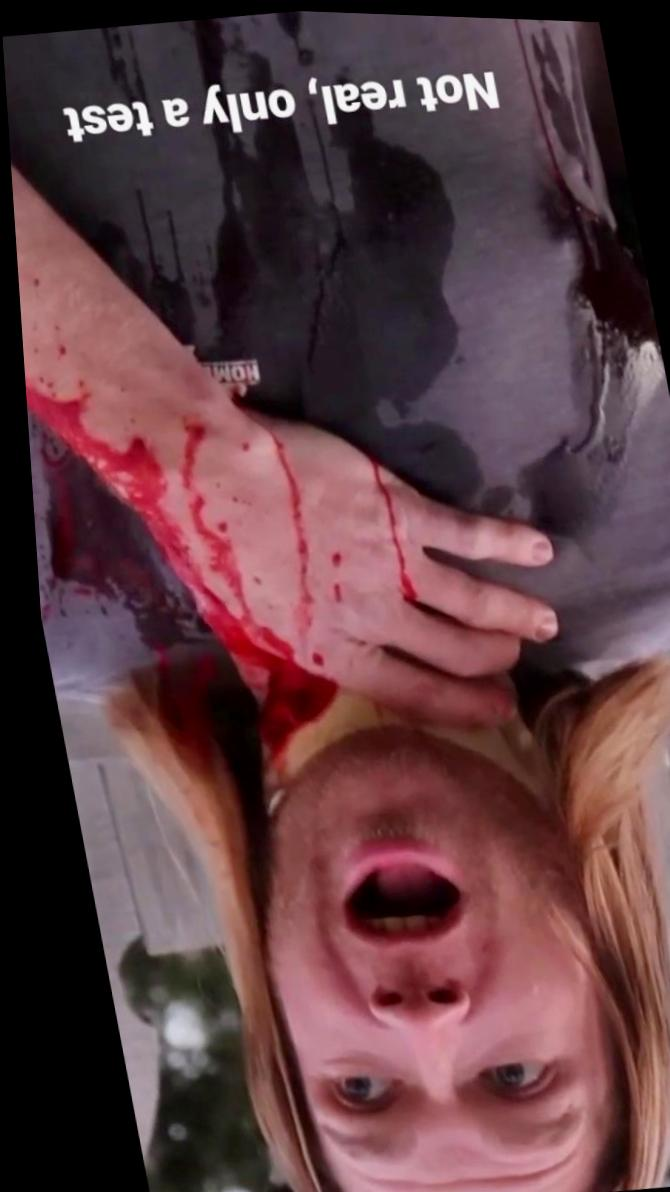Fire: (20, 327, 316, 684), (32, 425, 201, 648), (201, 618, 329, 767), (364, 456, 410, 599), (324, 549, 335, 566), (325, 581, 334, 601)
